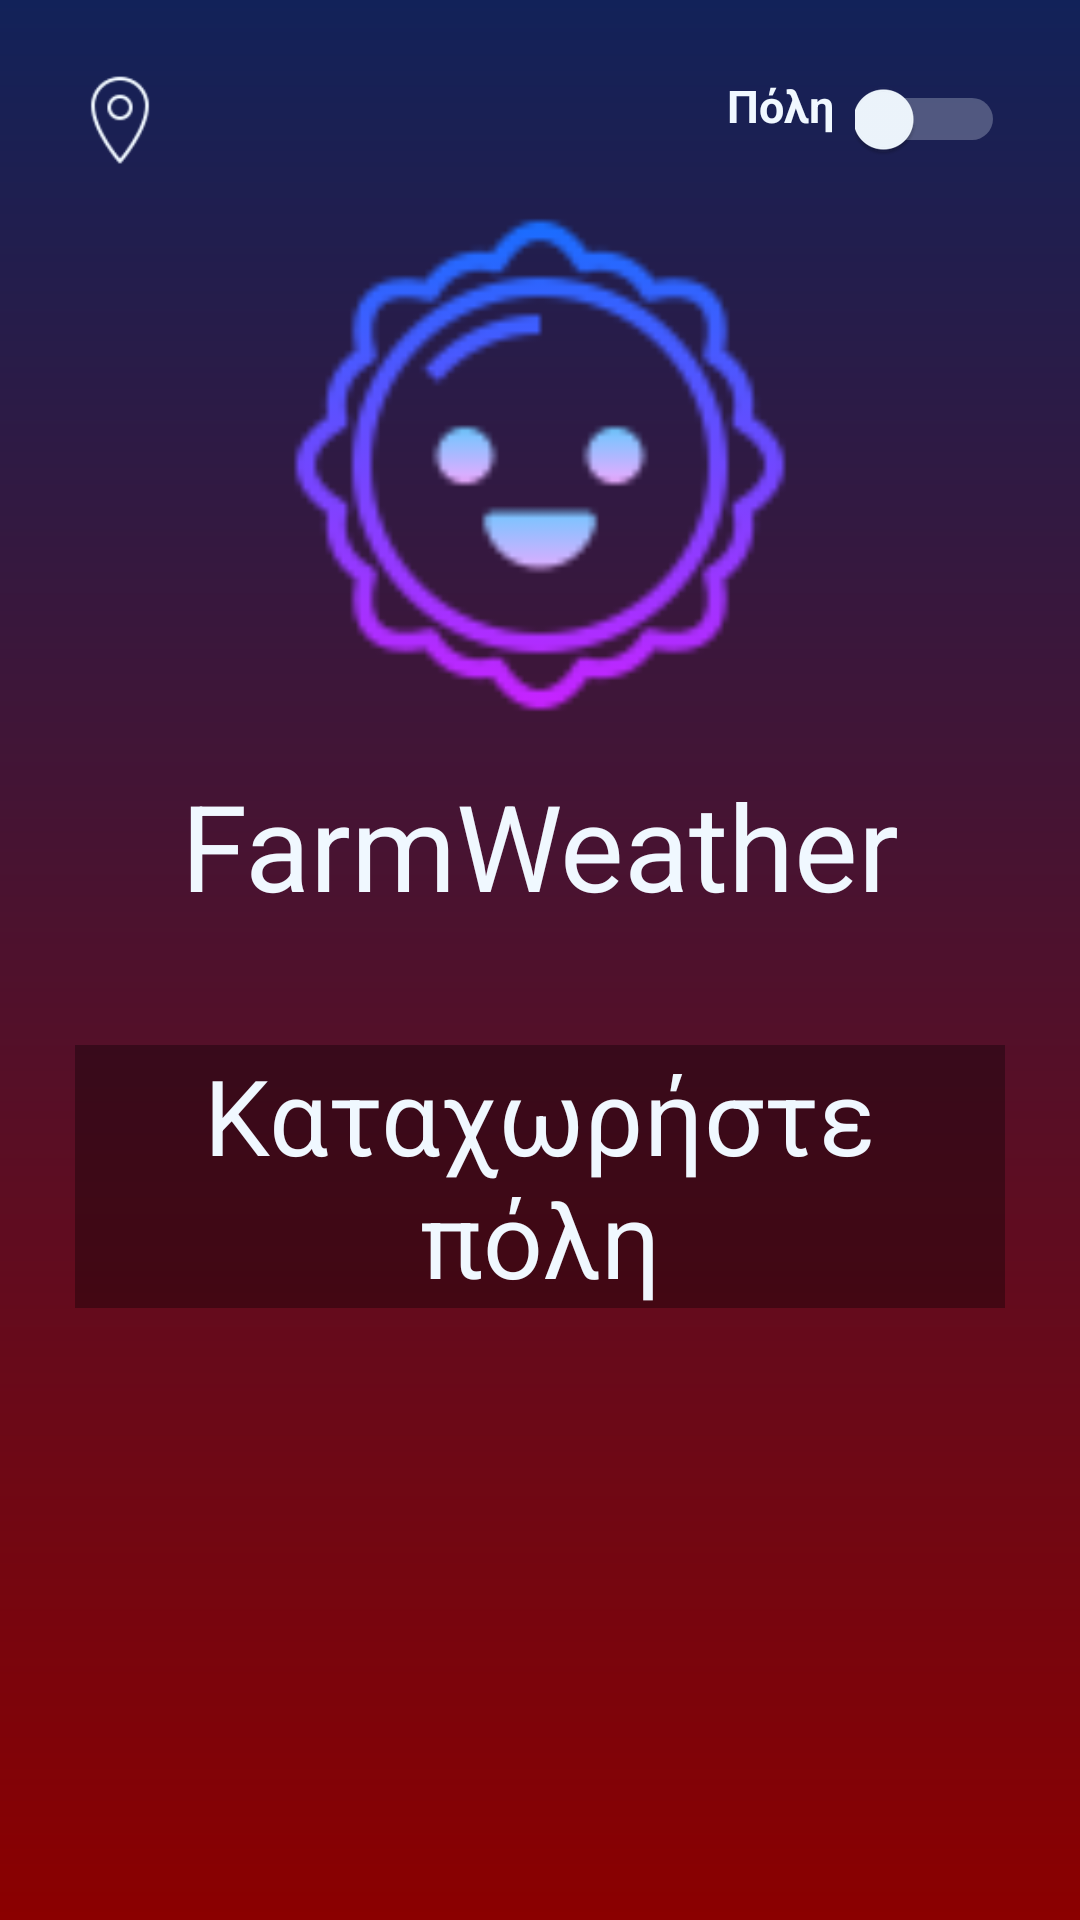

Icon click points for this 1080*1920 phone screenshot, format (x=x, y=y):
location: (x=120, y=120)
